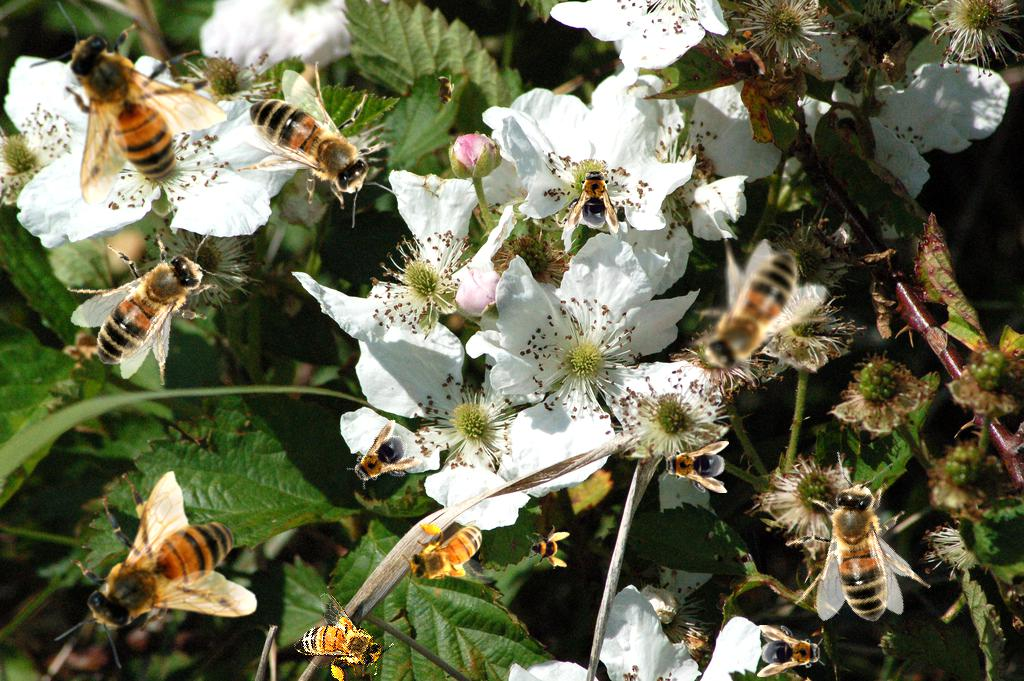Bee: (739, 429, 972, 663), (54, 471, 258, 670), (28, 1, 227, 205), (54, 207, 245, 395), (237, 61, 399, 228), (669, 239, 836, 401), (283, 587, 399, 681), (339, 418, 425, 502), (402, 520, 495, 588), (566, 164, 620, 234), (661, 441, 729, 493), (757, 625, 825, 677), (526, 525, 570, 569), (433, 71, 455, 111)
